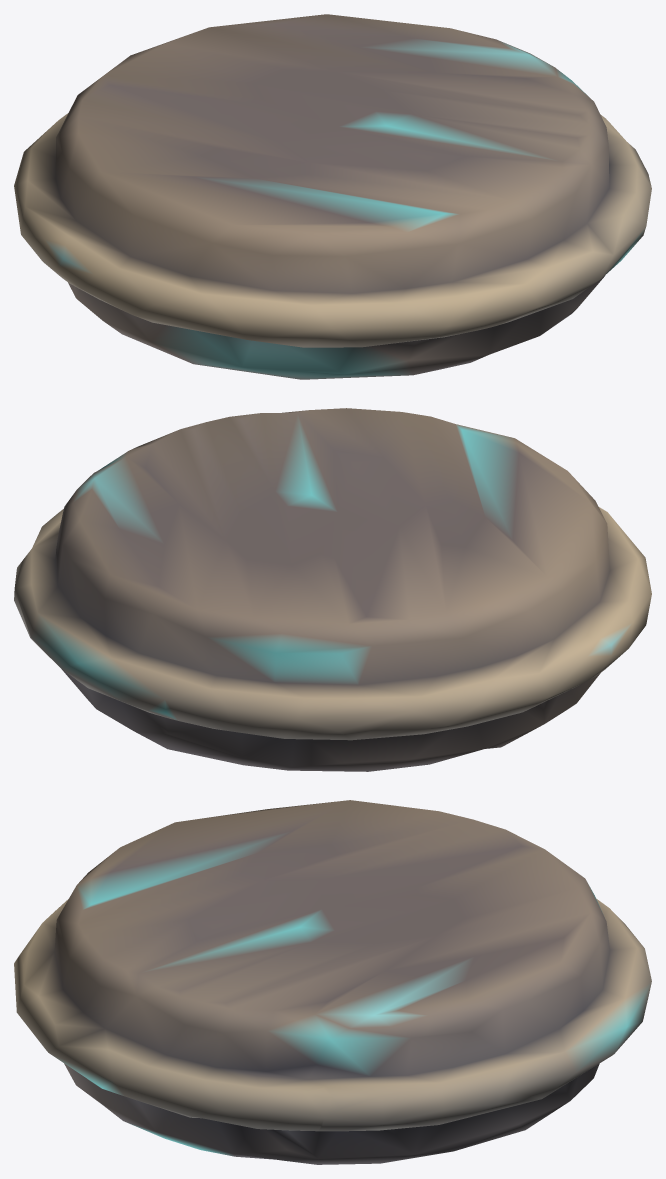
File: burrower_seg0.glb
The picture shows the model from 3 angles, top to bottom: view 1: azimuth 30°, elevation 25°; view 2: azimuth 150°, elevation 25°; view 3: azimuth 270°, elevation 25°; orthographic projection.
Parts seen in each view (by area): view 1: geometry_0; view 2: geometry_0; view 3: geometry_0.
Part boxes in pixels (box(x1,y1,x2,y2)): geometry_0: box(14, 14, 651, 379); geometry_0: box(14, 408, 651, 771); geometry_0: box(14, 800, 651, 1164).
Bounding box in the file's own units: 1.33 × 0.34 × 1.32.
